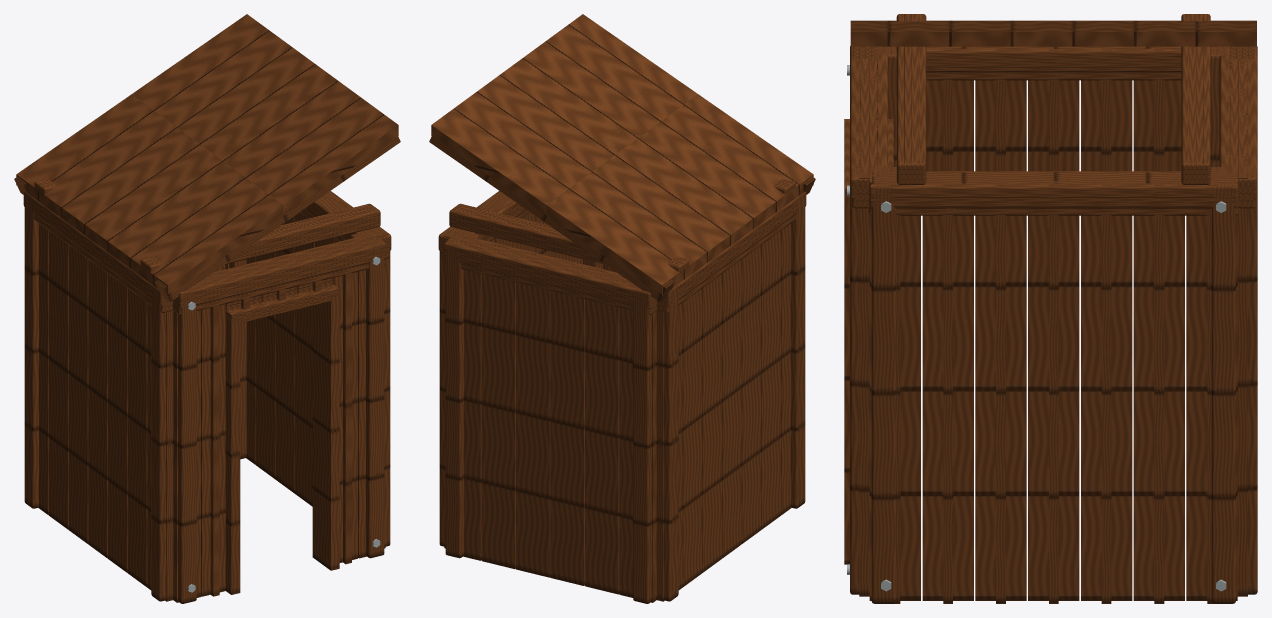
The model's file is rural-scavenging-settlements-outhouse-shell-2df4d849__26519.glb.
The picture shows the model from 3 angles, left to right: view 1: azimuth 30°, elevation 25°; view 2: azimuth 150°, elevation 25°; view 3: azimuth 270°, elevation 25°; orthographic projection. The views are drawn at different scales.
Parts seen in each view (by area): view 1: outhouse-shell; view 2: outhouse-shell; view 3: outhouse-shell.
Boxes of the visible parts, box(x1,y1,x2,y2) form: outhouse-shell: box(14, 14, 400, 603); outhouse-shell: box(429, 14, 815, 603); outhouse-shell: box(844, 14, 1257, 603).
Bounding box in the file's own units: 1.49 × 2.57 × 1.68.
2 materials, 1 textured.
